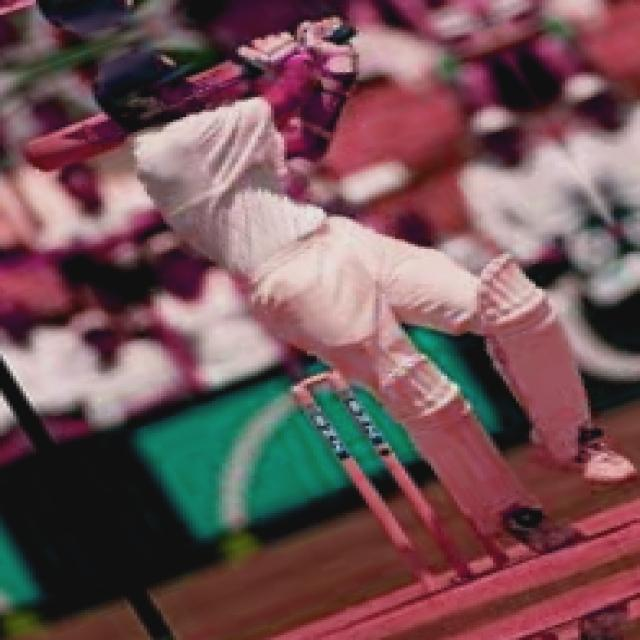toe: (17, 139, 54, 179)
